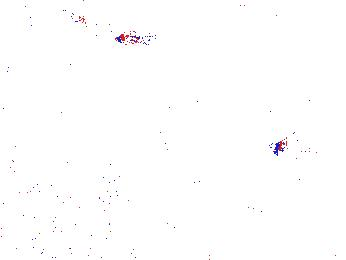X-ray fish: (268, 129, 316, 161)
red belly glassfish: (96, 173, 123, 202), (113, 32, 159, 47), (292, 172, 308, 196)
redtail glassfish: (1, 1, 93, 33)
